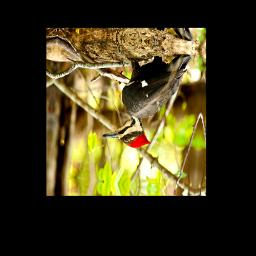Woodpecker: (100, 42, 192, 155)
